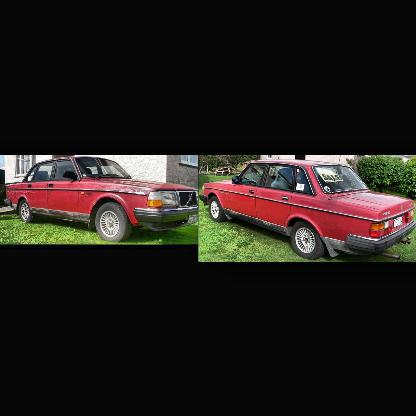Volvo 240 Sedan 1993: (200, 157, 416, 261)
